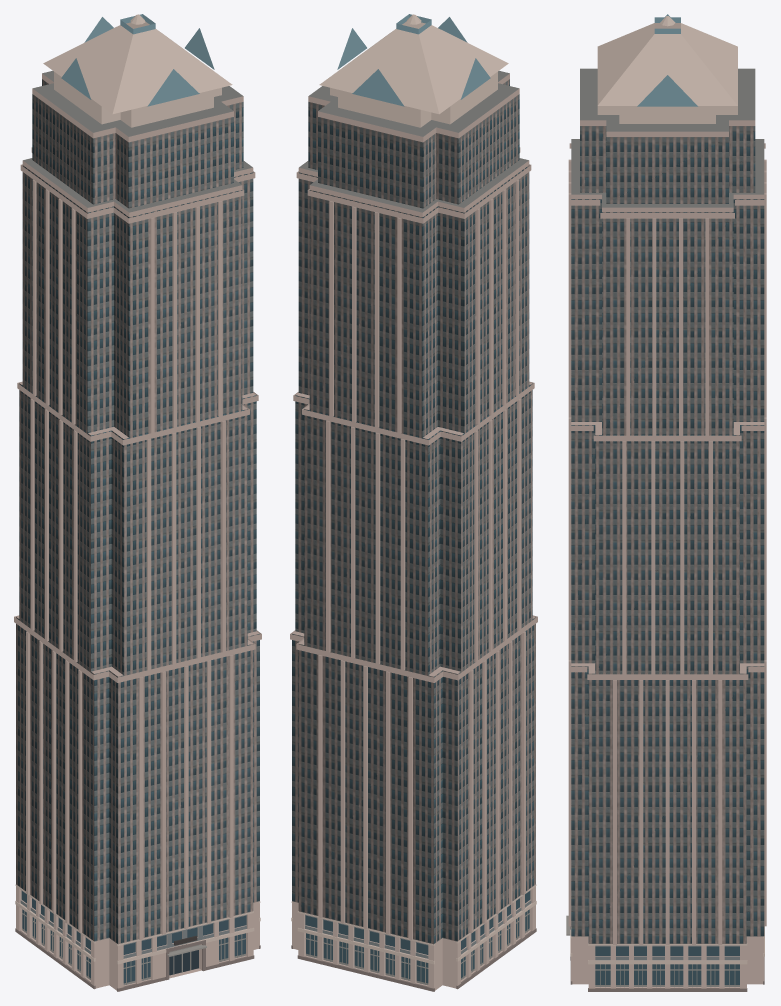
The model's file is third_1201.glb.
The picture shows the model from 3 angles, left to right: view 1: azimuth 30°, elevation 25°; view 2: azimuth 150°, elevation 25°; view 3: azimuth 270°, elevation 25°; orthographic projection.
Visible parts, largest first — view 1: third_1201; view 2: third_1201; view 3: third_1201.
Boxes of the visible parts, x1=… form: third_1201: x1=14, y1=14, x2=261, y2=991; third_1201: x1=290, y1=14, x2=537, y2=991; third_1201: x1=566, y1=14, x2=766, y2=991.
Bounding box in the file's own units: 45.1 × 235 × 45.64.
2 materials, 2 textured.
